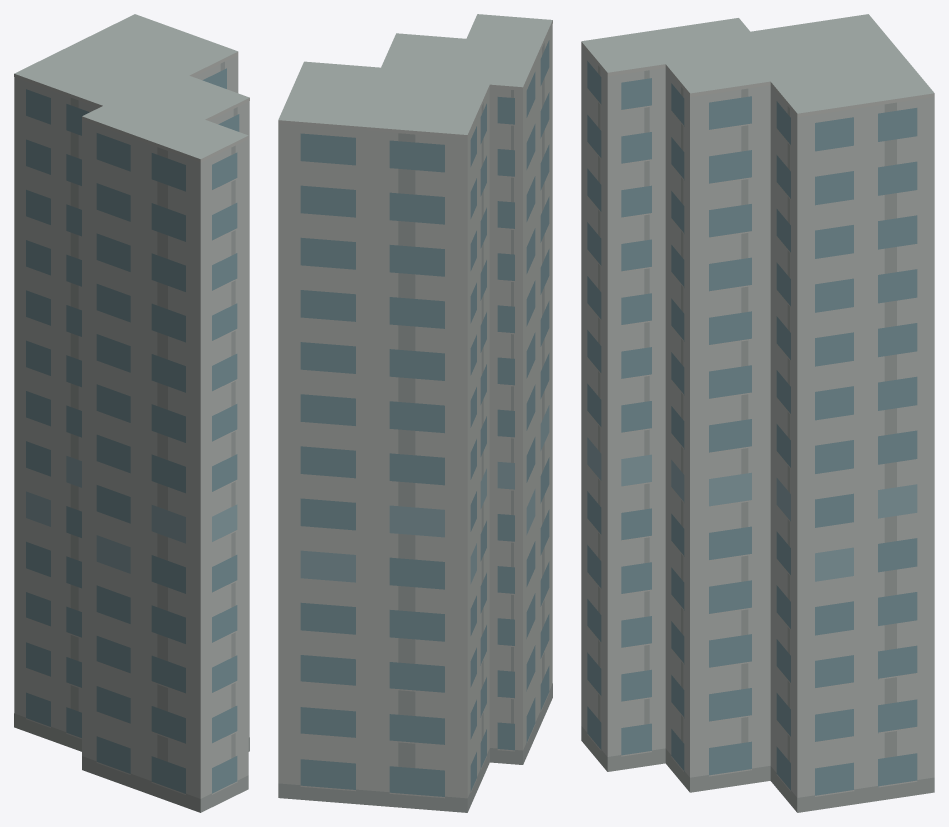
Rendered from residential-ad713156-0106-49b9-86fc-867d017ef66c.glb.
3 views of the same model, side by side, from view 1: azimuth 30°, elevation 25°; view 2: azimuth 150°, elevation 25°; view 3: azimuth 270°, elevation 25° (orthographic). The views are drawn at different scales.
Visible parts, largest first — view 1: residential-ad713156-0106-49b9-86fc-867d017ef66c.tmp; view 2: residential-ad713156-0106-49b9-86fc-867d017ef66c.tmp; view 3: residential-ad713156-0106-49b9-86fc-867d017ef66c.tmp.
Boxes of the visible parts, x1,y1,x2,y2 form: residential-ad713156-0106-49b9-86fc-867d017ef66c.tmp: [14, 14, 249, 812]; residential-ad713156-0106-49b9-86fc-867d017ef66c.tmp: [278, 14, 552, 812]; residential-ad713156-0106-49b9-86fc-867d017ef66c.tmp: [581, 14, 934, 812].
Bounding box in the file's own units: 14.07 × 46 × 21.08.
